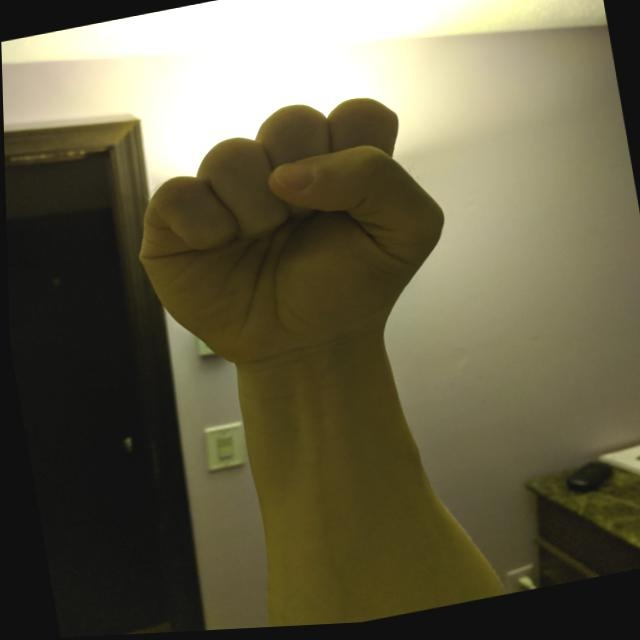S: (110, 74, 471, 392)
